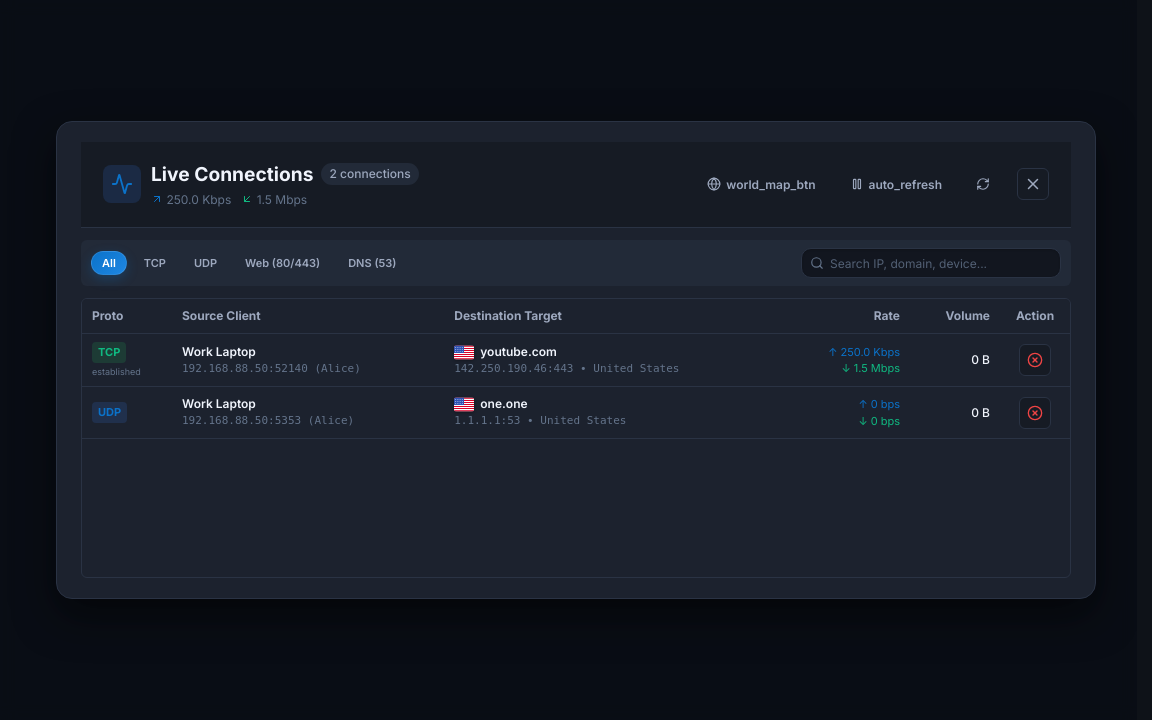
it: LiveConnectionsModal › filters by protocol pills
The image size is (1152, 720).
Expected: the text "youtube.com" is shown, 480,343 -> 557,361
Note: Click UDP pill
Step 1. Click the button "UDP" → (205, 263), box 183,251 -> 228,275
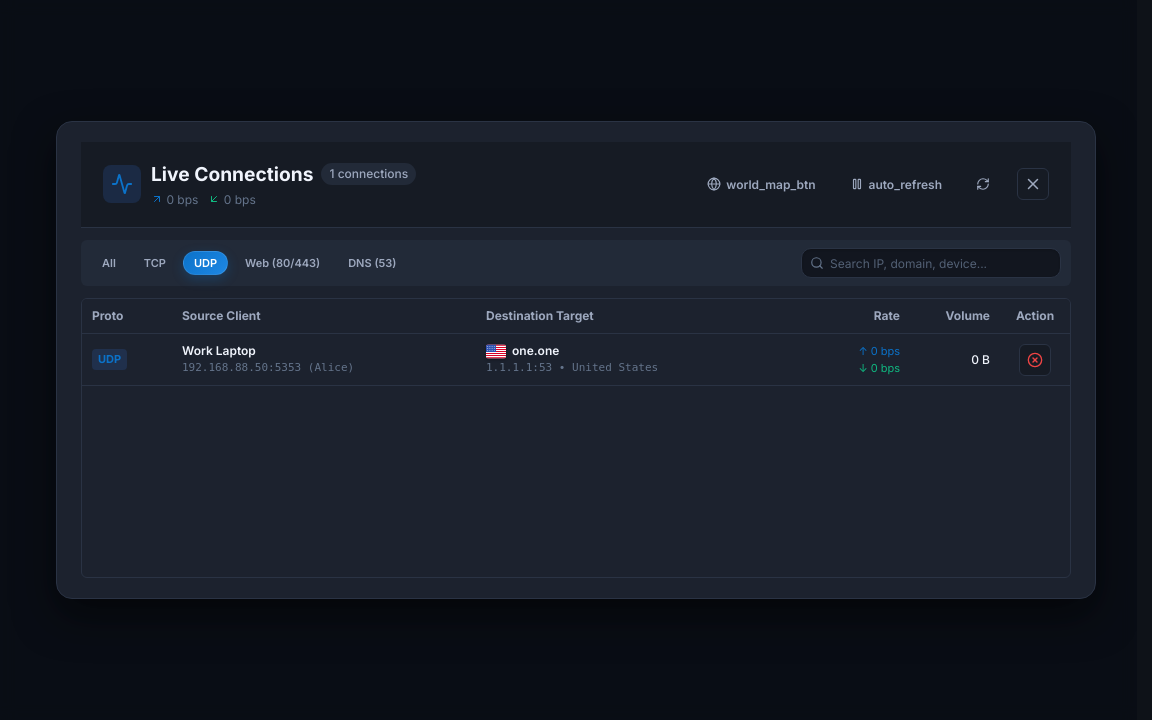
Expected: the text "1.1.1.1:53 • United States" is shown, 486,361 -> 658,374
Result: the text "youtube.com" is gone
